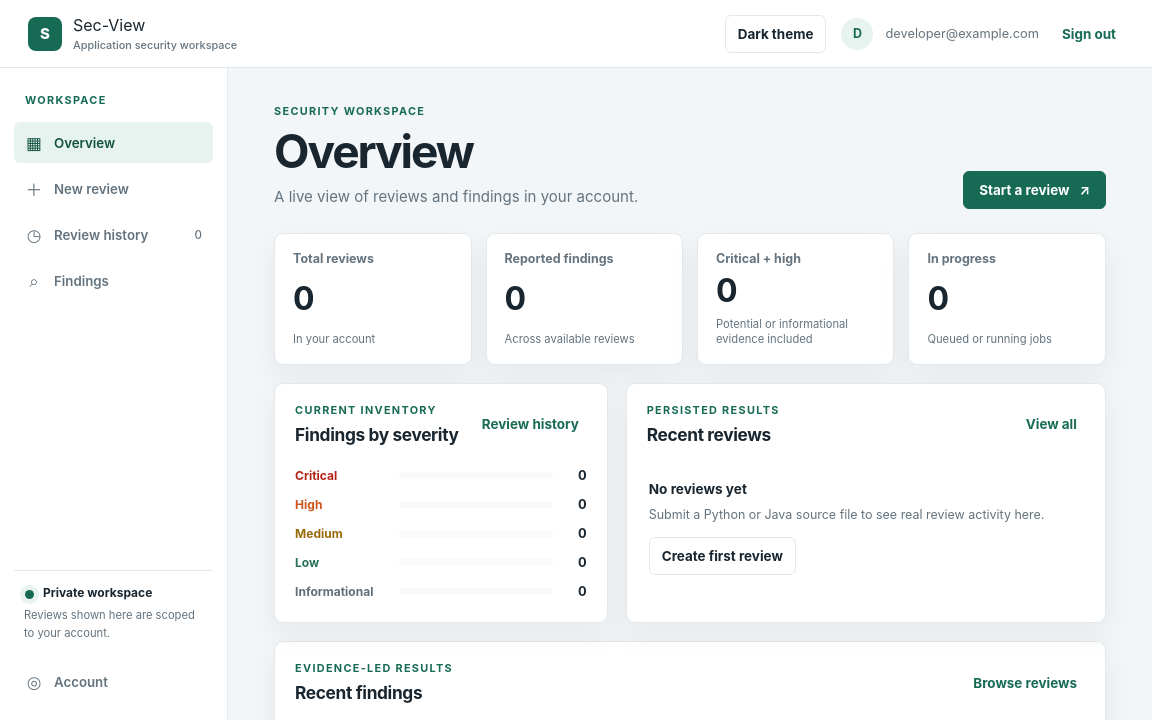
Test case: review workspace sections › shows API errors instead of fake results
Expected: the heading "Overview" is shown, [274,123,473,179]
Click the button "＋ New review" at (114, 188), box [14,168,213,209]
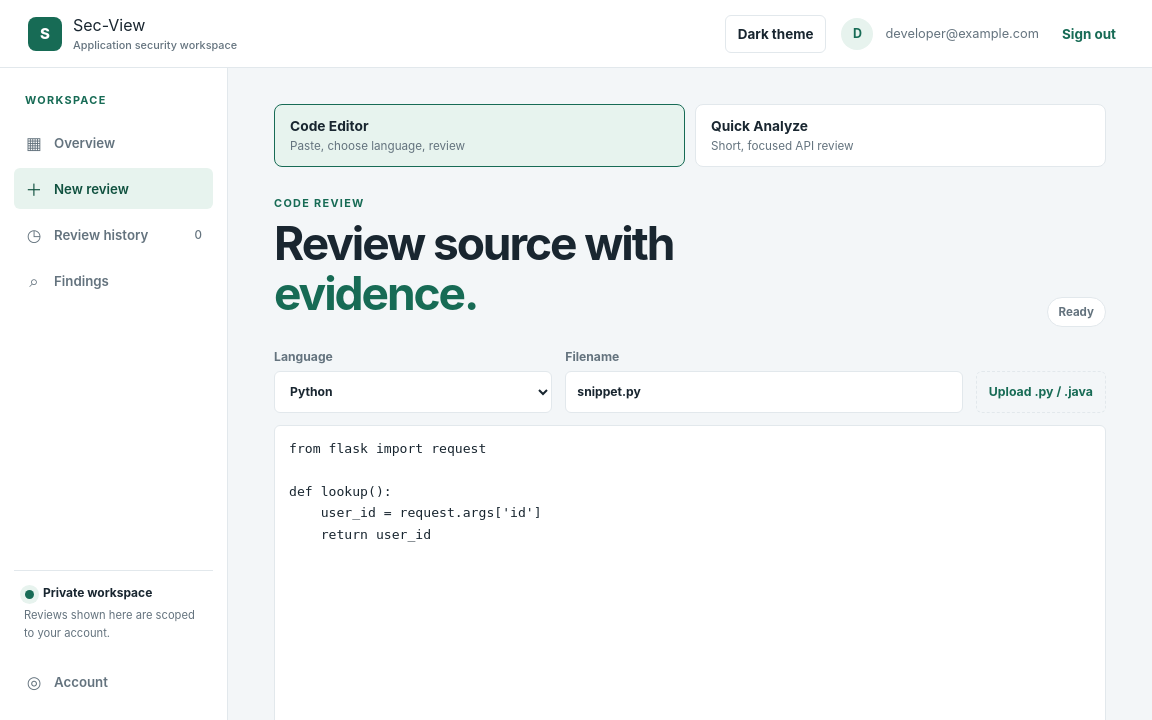
Click the button "Quick Analyze Short, focused API review" at (760, 126), box [695,104,1106,167]
(page scrolled)
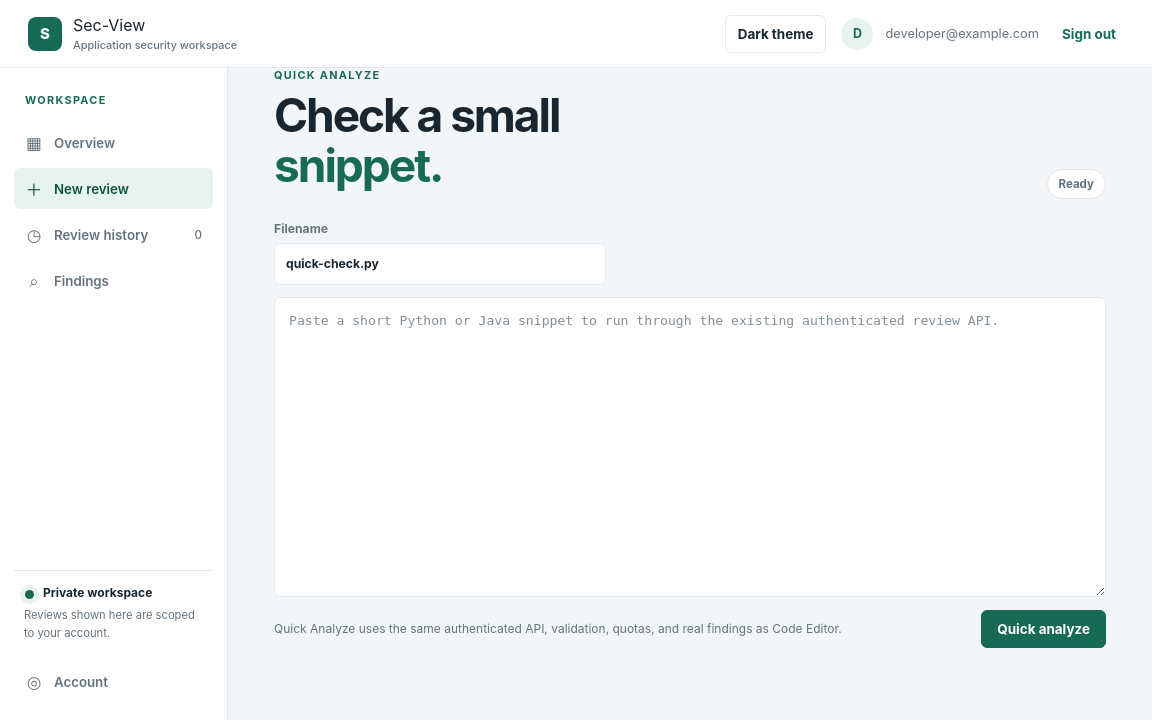
Replace the text in the text box named "Quick Analyze source code" with "print('x')" at (690, 446), box [274,296,1106,596]
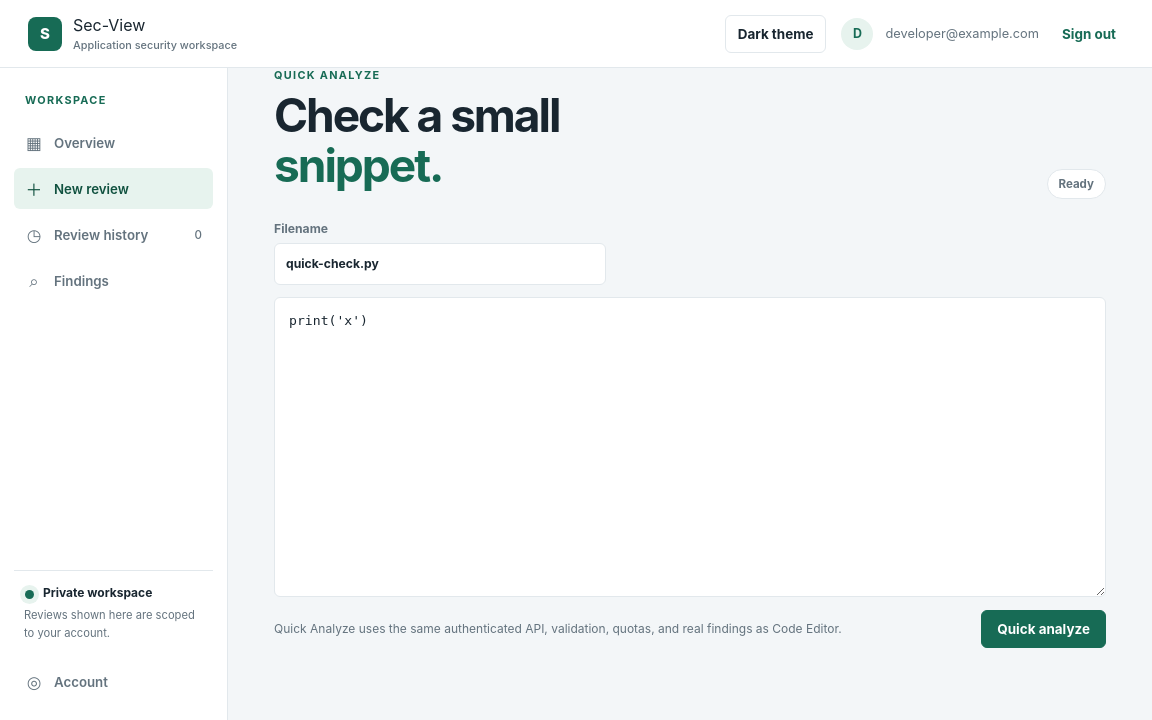
Click the button "Quick analyze" at (1044, 628), box [981,610,1106,648]
(page scrolled)
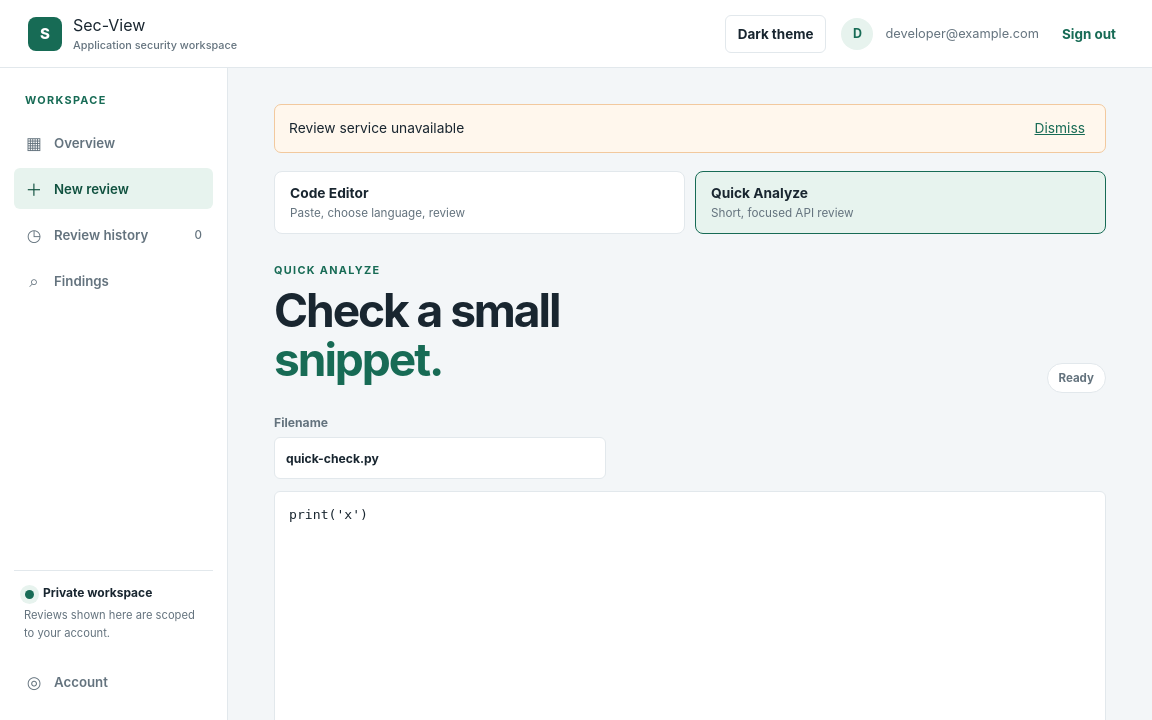
Expected: the message shows "Review service unavailable", [289,120,464,136]
